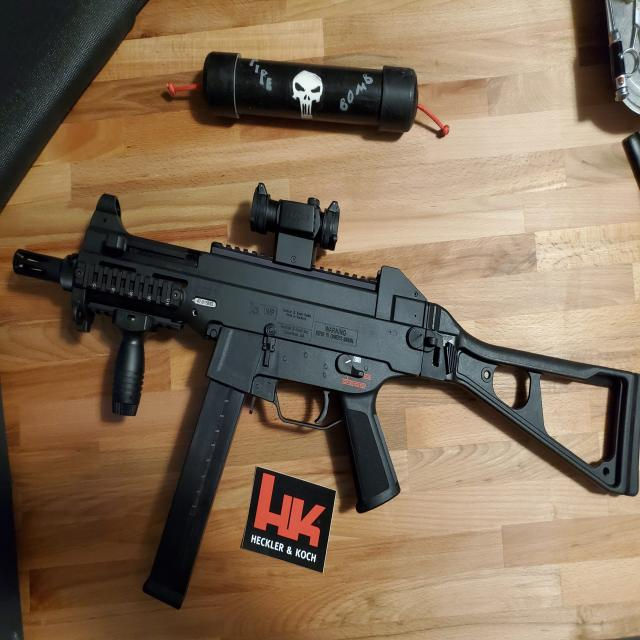SMG: (14, 194, 640, 611)
